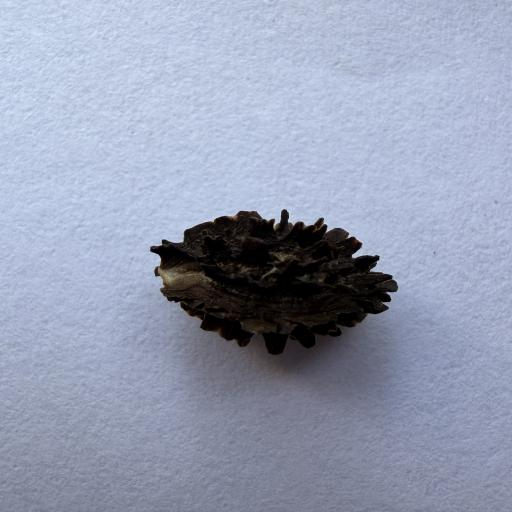papaya_seed: (129, 181, 428, 356)
